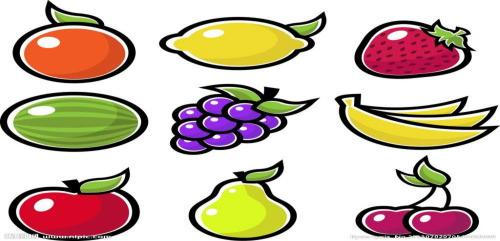fruit1: (9, 0, 137, 83)
fruit2: (157, 79, 323, 154)
fruit3: (331, 90, 500, 150)
fruitn: (346, 153, 482, 238)
